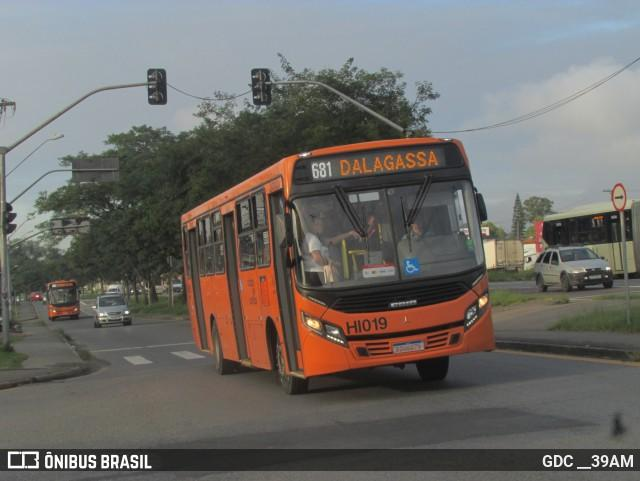DALAGASSA: (330, 146, 443, 179)
